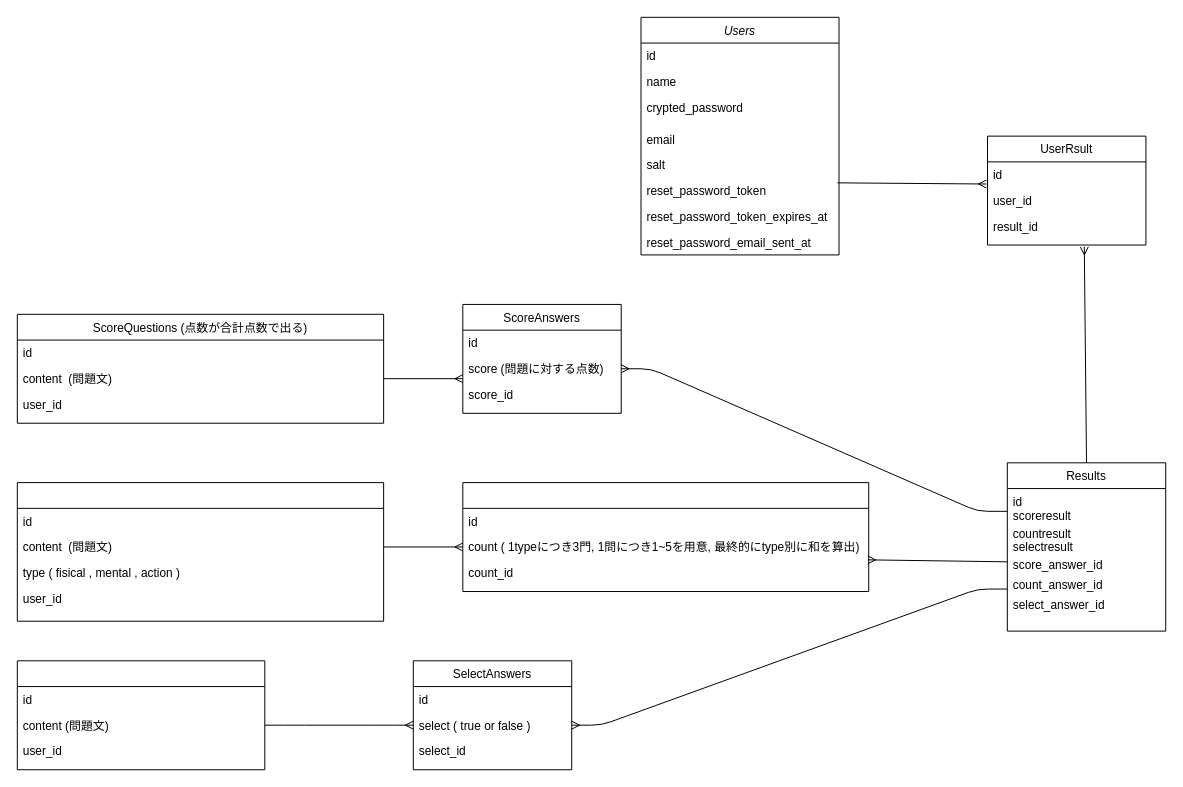
This 1183x787 diagram has some shape labels left out. The shapes that lost their labels are listed below. From the top down, each one's box as (x1, y1, x2, y2) in pixels, then its label:
(16, 482, 384, 621): CountQusetions (1~5の結果を3つのタイプ別に足していく問題)
(462, 482, 869, 592): CountAnswers
(16, 660, 265, 770): SelectQuestions (まるばつ問題 )
